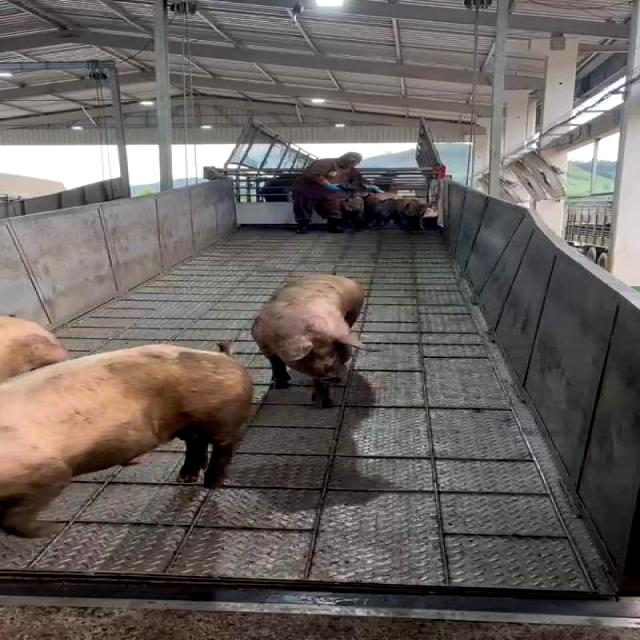pig: (0, 344, 252, 537), (252, 274, 367, 407)
